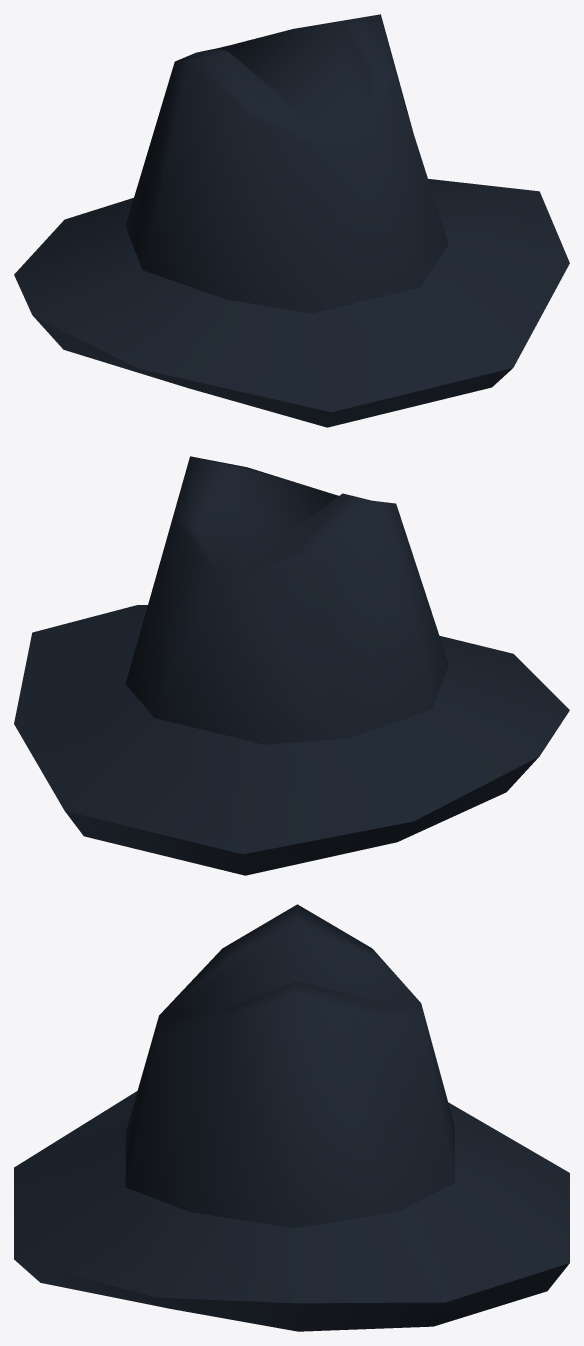
The model's file is MLady.fbx.
The picture shows the model from 3 angles, top to bottom: view 1: azimuth 30°, elevation 25°; view 2: azimuth 150°, elevation 25°; view 3: azimuth 270°, elevation 25°; orthographic projection. The views are drawn at different scales.
Parts seen in each view (by area): view 1: Sphere.001; view 2: Sphere.001; view 3: Sphere.001.
Boxes of the visible parts, <box> form: Sphere.001: <box>14,14,569,427</box>; Sphere.001: <box>14,456,569,875</box>; Sphere.001: <box>14,904,569,1331</box>.
Size of the model in its own units: 212 by 115 by 195.
